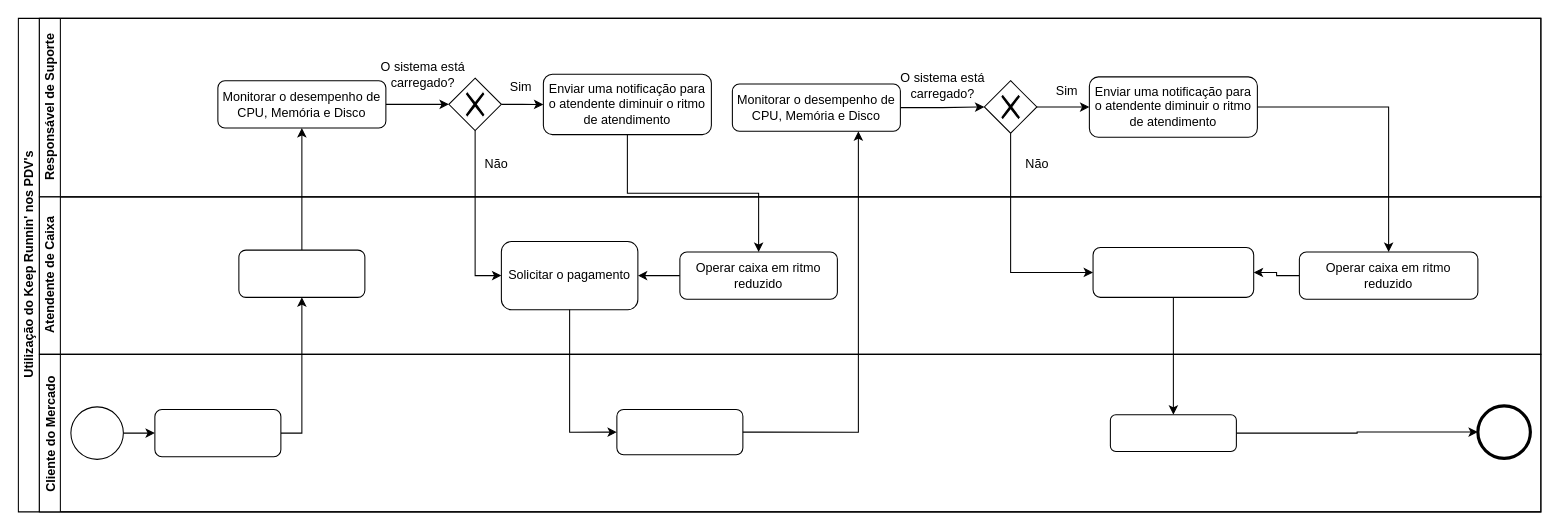
This 1559x530 diagram has some shape labels left out. The shapes that lost their labels are listed below. From the top down, each one's centre as x and y in pixels, then its label:
(x=301, y=273): Registrar compra no Ponto de Venda
(x=1173, y=271): Emitir nota e entregar compras para o cliente
(x=217, y=432): Levar compras no ponto de venda
(x=679, y=431): Realizar pagamento
(x=1172, y=433): Receber compras
